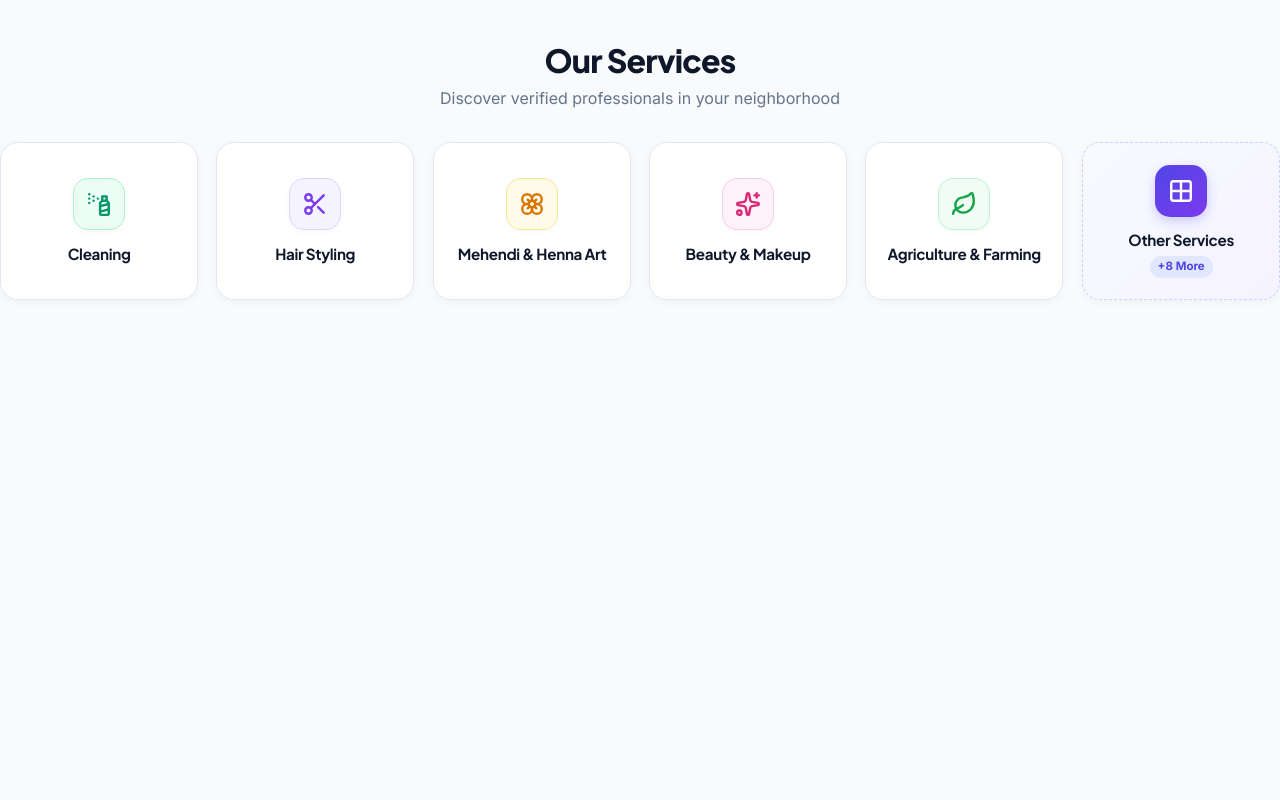
Test: VEGA ServicesSection Component › filters remaining services case-insensitively when typing in search input
The width and height of the screenshot is (1280, 800).
Click the heading "Other Services" at coordinates (1181, 240), box [1128,230,1234,250]
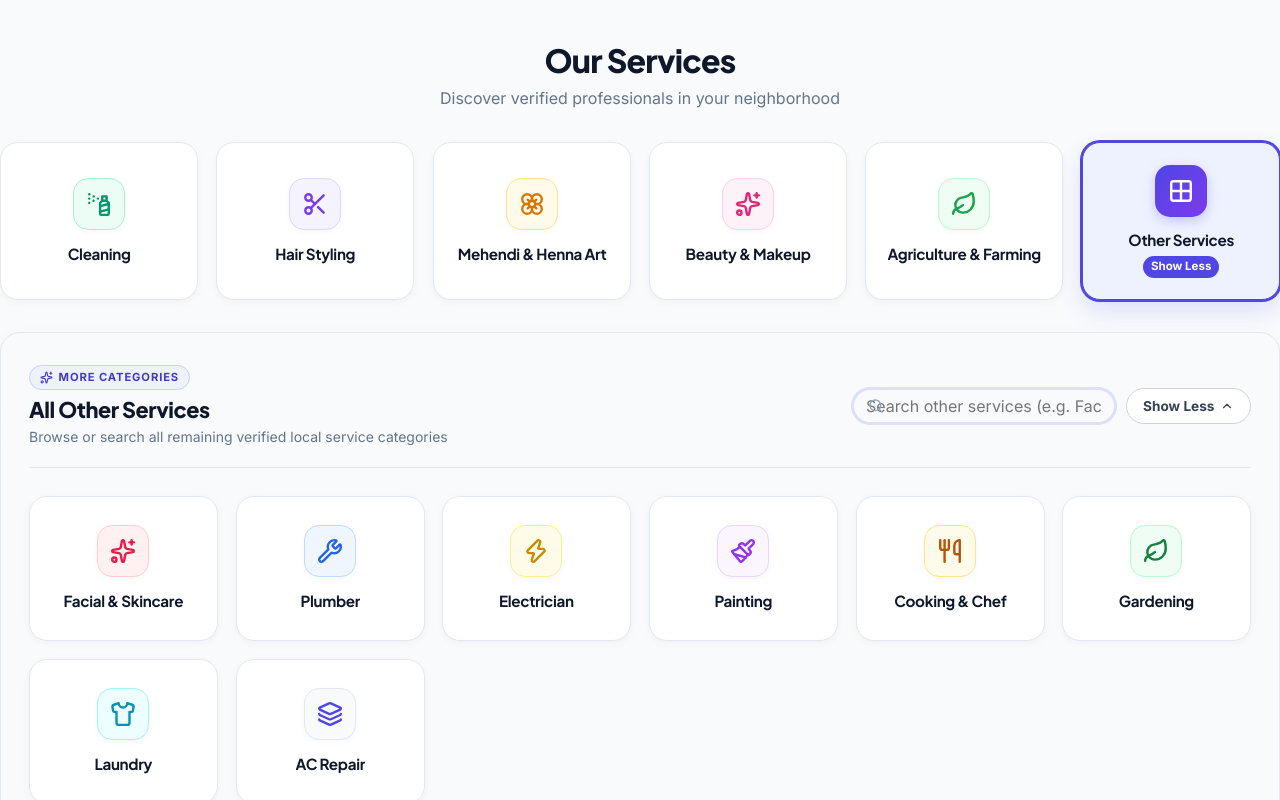
Type "fa" into the field with placeholder "Search other services (e.g. Facial, Plumbing, Cooking)..." at coordinates (984, 406), box [854,390,1114,422]
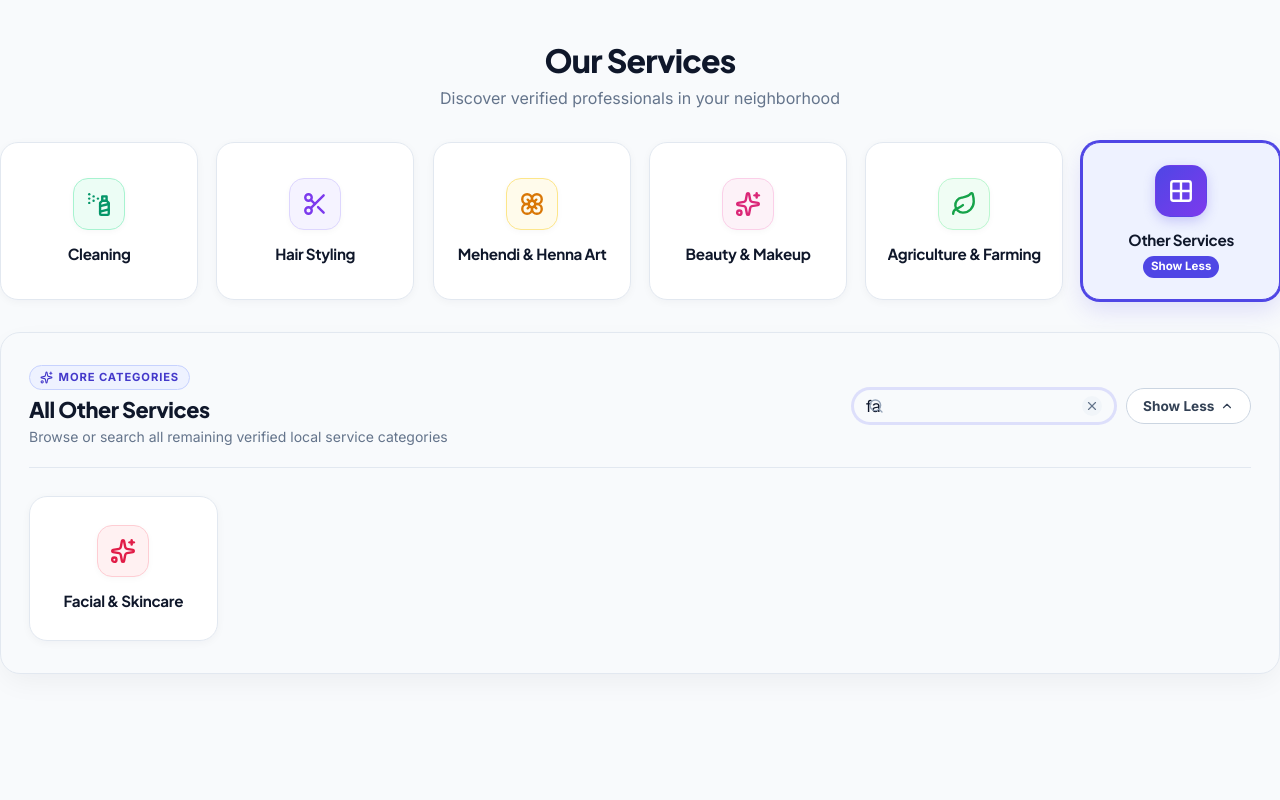
Now the heading "Facial & Skincare" is shown, box [63,591,183,612]
Now the button "Plumber" is gone
Now the button "Electrician" is gone
